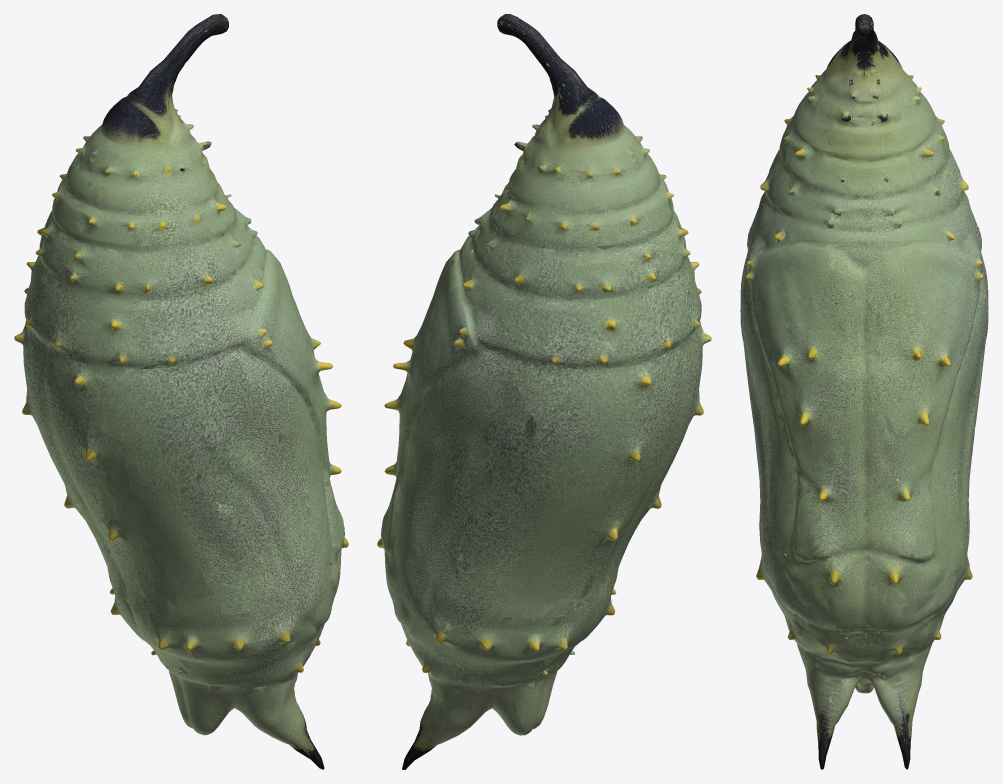
Rendered from crisalida.fbx.
3 views of the same model, side by side, from view 1: azimuth 30°, elevation 25°; view 2: azimuth 150°, elevation 25°; view 3: azimuth 270°, elevation 25° (orthographic). The views are drawn at different scales.
Parts seen in each view (by area): view 1: tripo_node_3055a521; view 2: tripo_node_3055a521; view 3: tripo_node_3055a521.
Boxes of the visible parts, x1=… form: tripo_node_3055a521: x1=14, y1=14, x2=348, y2=769; tripo_node_3055a521: x1=377, y1=14, x2=711, y2=769; tripo_node_3055a521: x1=740, y1=14, x2=988, y2=769.
Size of the model in its own units: 0.8885 by 2.21 by 0.6946.
Materials: 1 (1 with a texture image).
